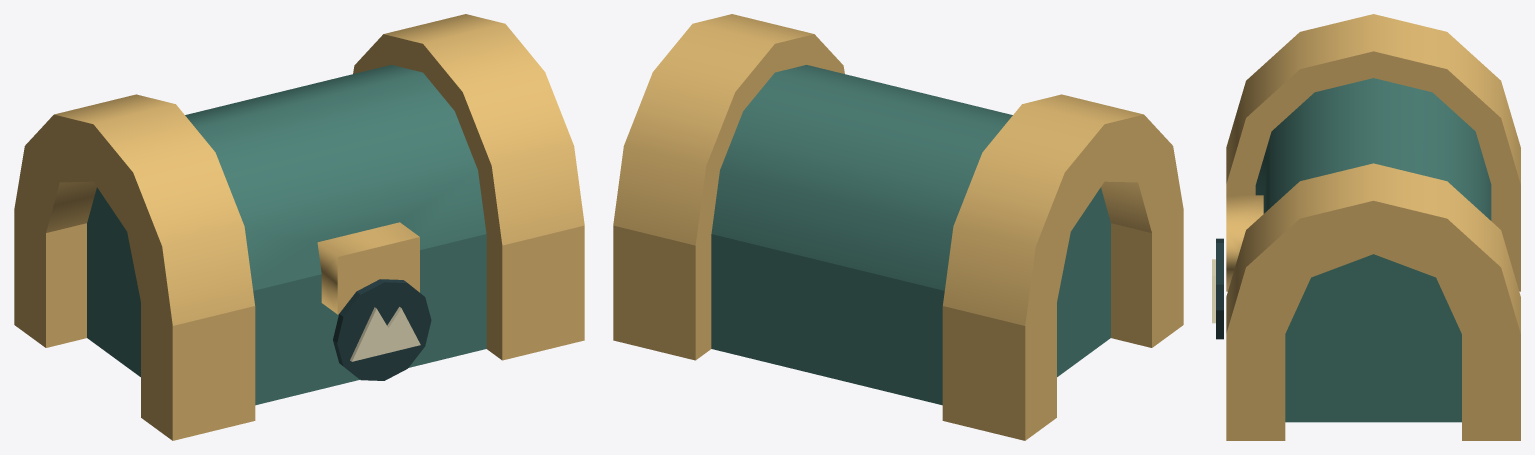
File: adventure.glb
The picture shows the model from 3 angles, left to right: view 1: azimuth 30°, elevation 25°; view 2: azimuth 150°, elevation 25°; view 3: azimuth 270°, elevation 25°; orthographic projection. The views are drawn at different scales.
Parts seen in each view (by area): view 1: lid, chest, category badge, emblem; view 2: lid, chest; view 3: lid, chest, category badge.
Part boxes in pixels (x1=…): lid: x1=14, y1=14, x2=584, y2=325; chest: x1=14, y1=210, x2=584, y2=440; category badge: x1=333, y1=279, x2=431, y2=380; emblem: x1=350, y1=307, x2=420, y2=361; lid: x1=613, y1=14, x2=1183, y2=325; chest: x1=613, y1=210, x2=1183, y2=440; lid: x1=1226, y1=14, x2=1520, y2=334; chest: x1=1226, y1=184, x2=1520, y2=440; category badge: x1=1216, y1=238, x2=1223, y2=339.
Bounding box in the file's own units: 1.91 × 1.15 × 1.34.
